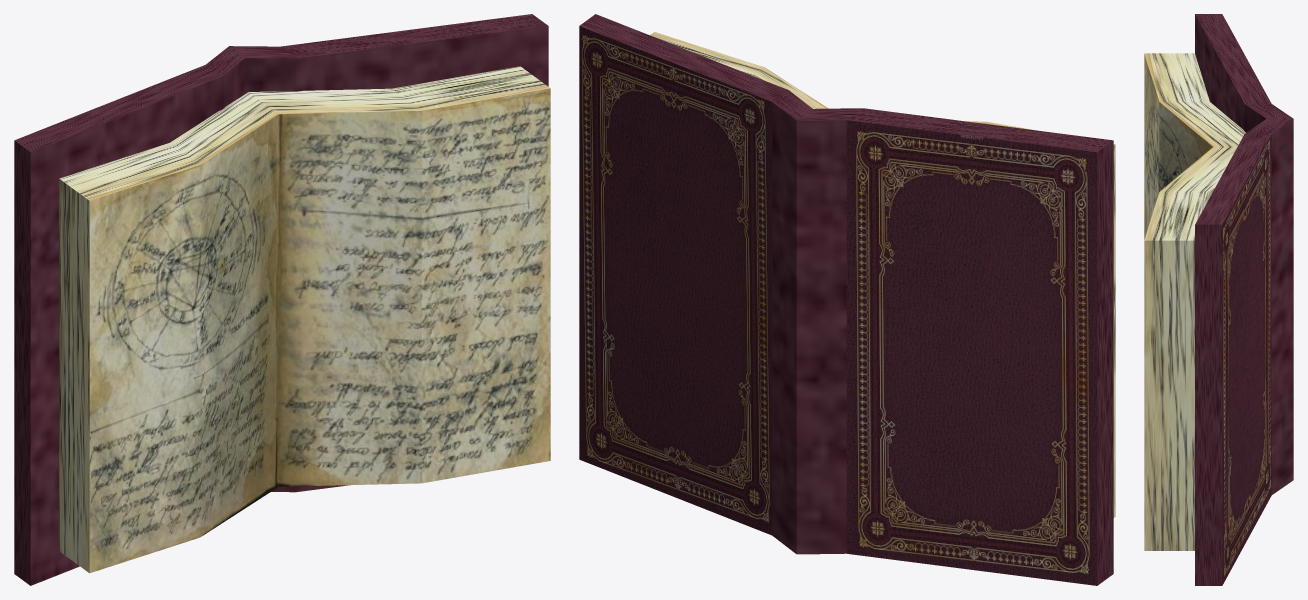
File: LivroDeMagiaTI.fbx
3 renders of one model, left to right at view 1: azimuth 30°, elevation 25°; view 2: azimuth 150°, elevation 25°; view 3: azimuth 270°, elevation 25°, orthographic. The views are drawn at different scales.
Visible parts, largest first — view 1: LivroDeMagiaAntigo; view 2: LivroDeMagiaAntigo; view 3: LivroDeMagiaAntigo.
Part boxes in pixels (box(x1,y1,x2,y2)): LivroDeMagiaAntigo: box(14, 14, 550, 585); LivroDeMagiaAntigo: box(579, 14, 1115, 585); LivroDeMagiaAntigo: box(1144, 14, 1293, 585).
Bounding box in the file's own units: 100 × 80 × 30.
